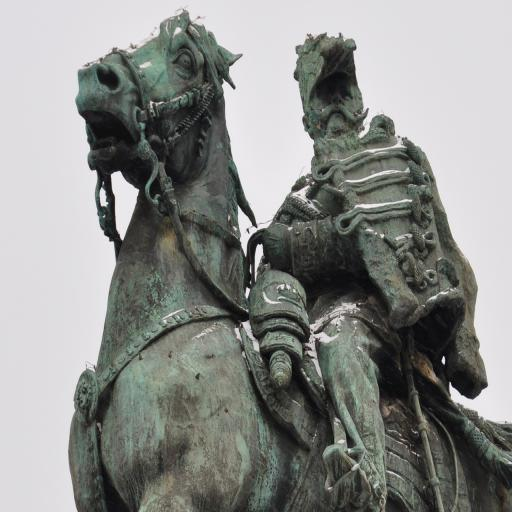horse: (73, 6, 512, 512)
